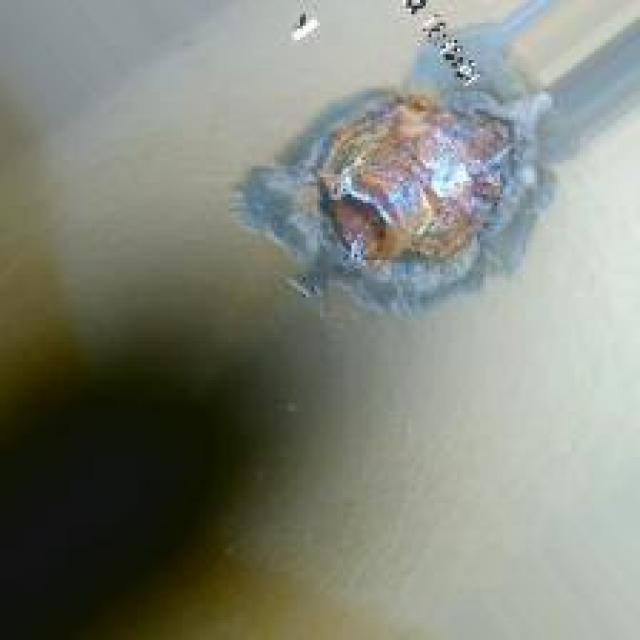ferrule: (294, 103, 529, 260)
